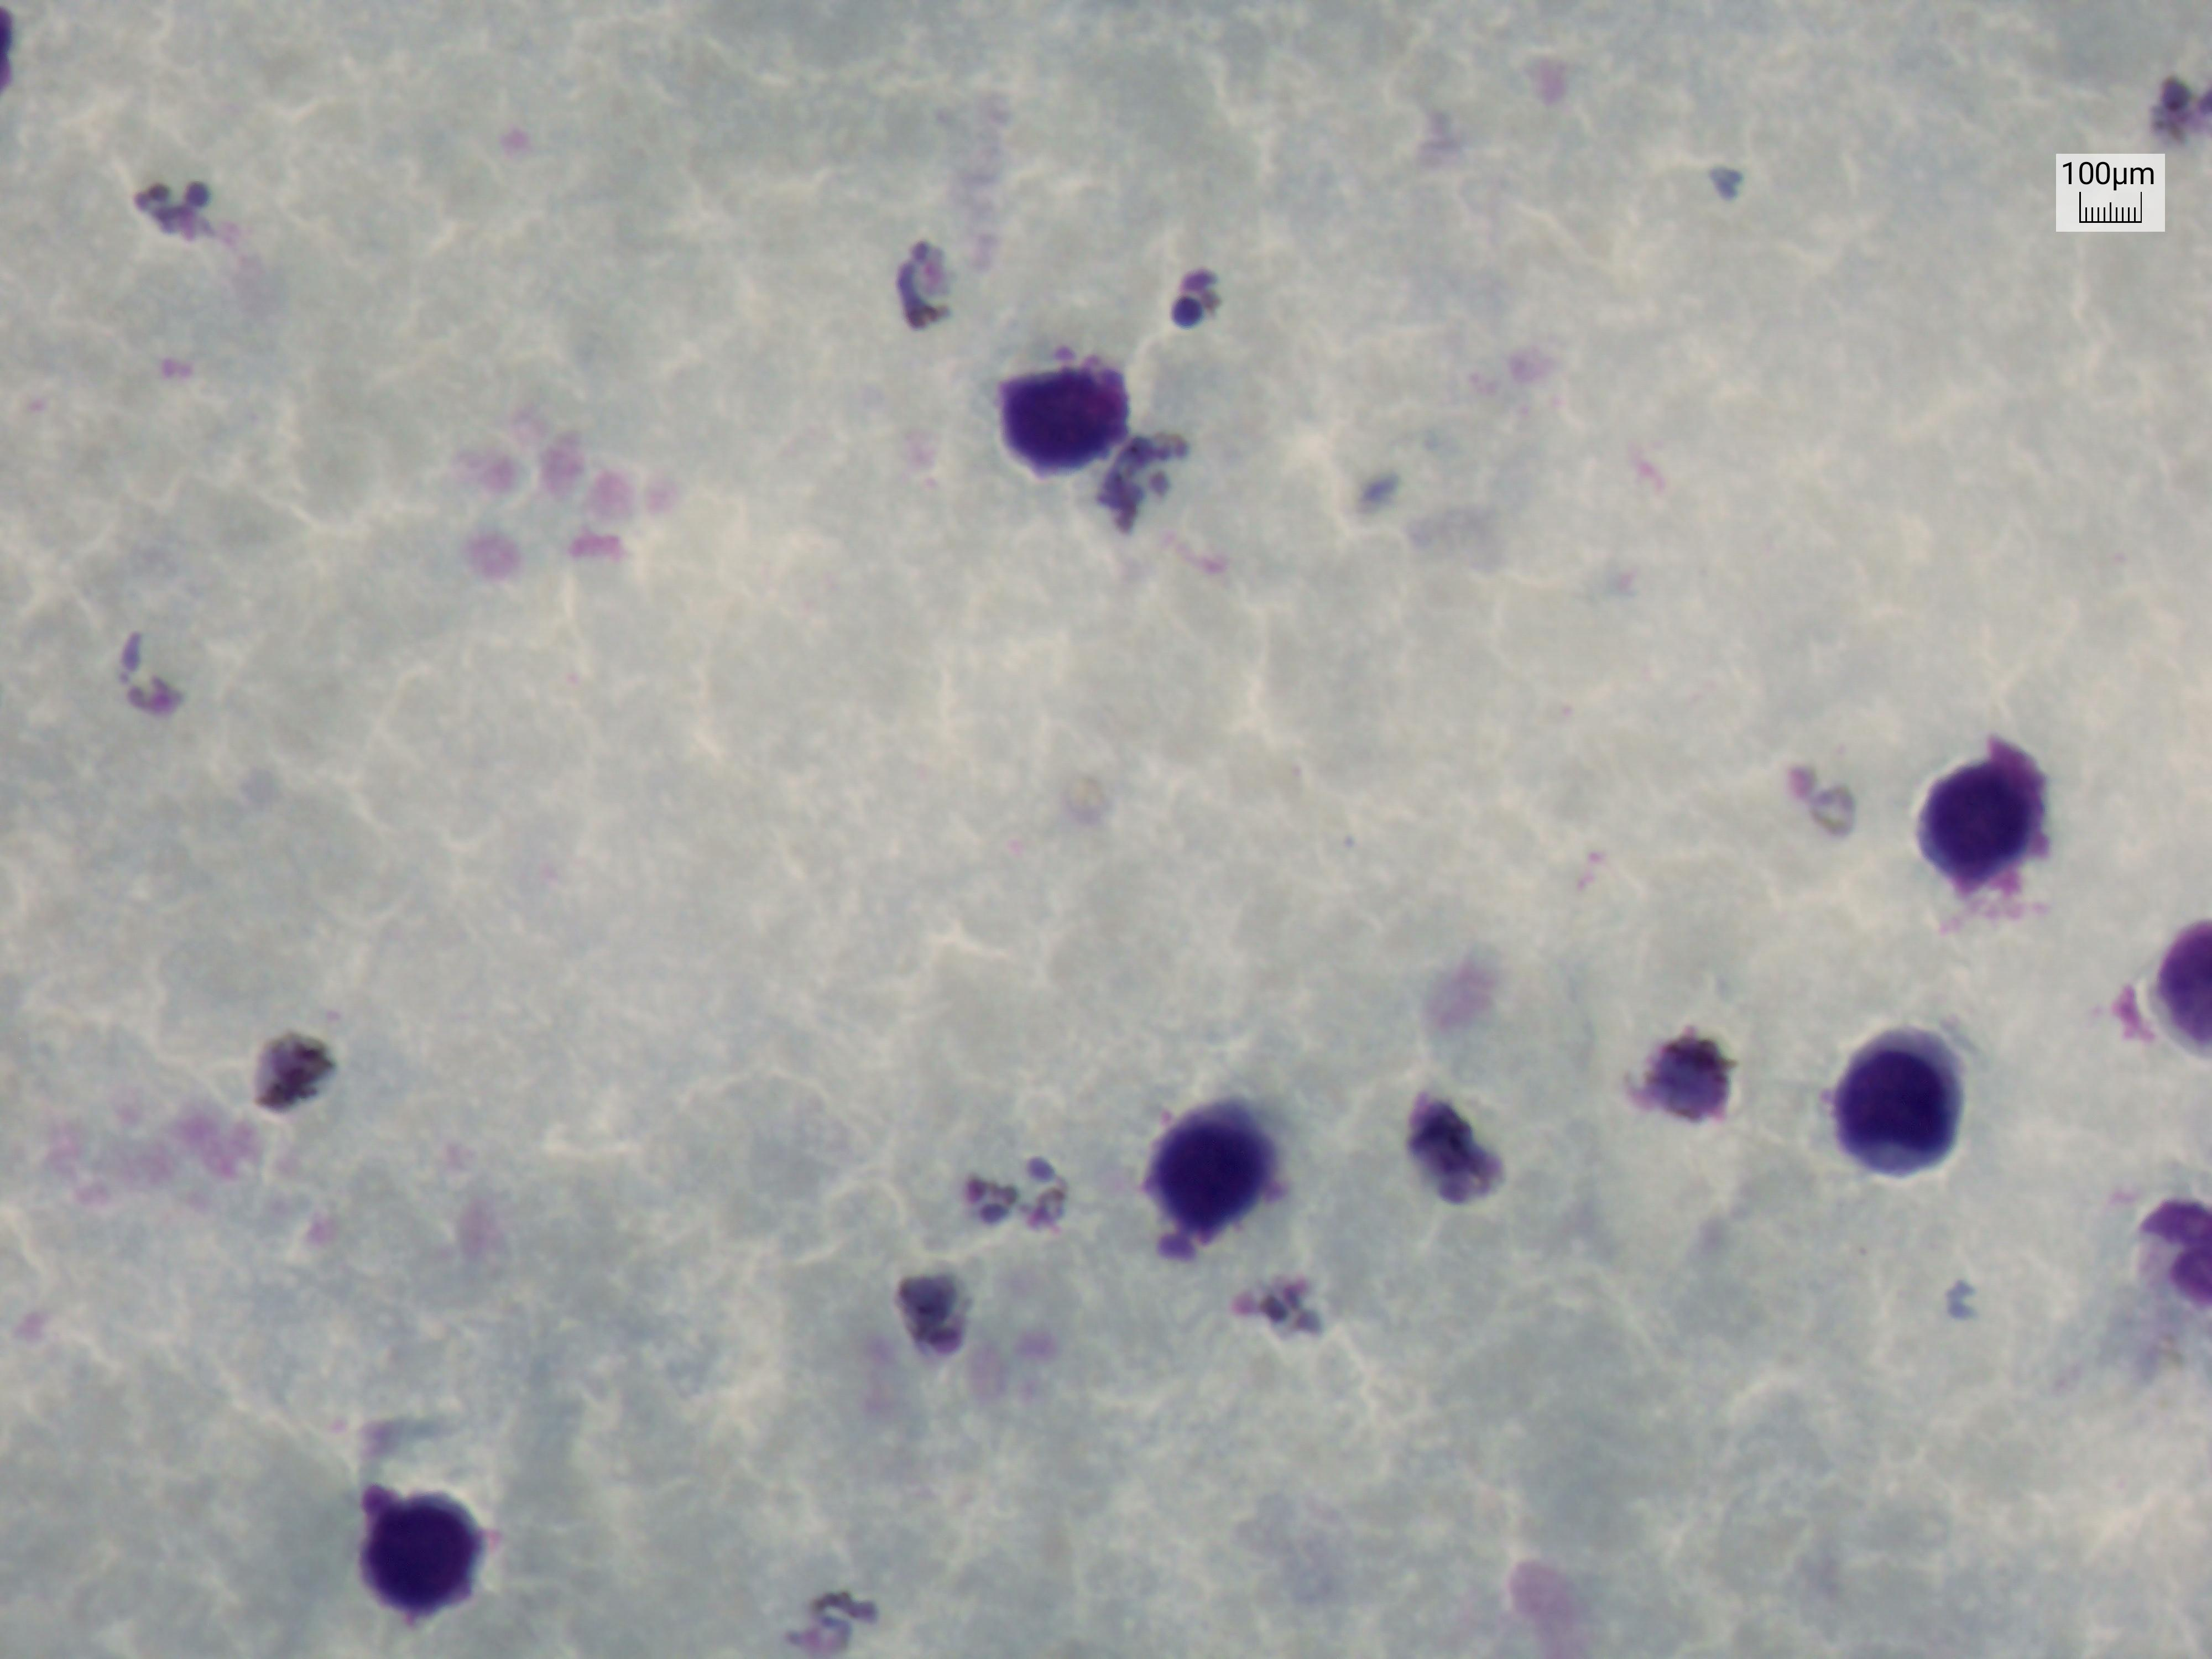p.vivax: (1393, 1060, 1522, 1216), (1634, 1009, 1759, 1141), (888, 1244, 1001, 1382), (763, 1554, 907, 1659), (1153, 244, 1287, 354), (113, 155, 237, 272), (937, 1140, 1080, 1241), (235, 1009, 350, 1134), (1228, 1244, 1343, 1358), (98, 608, 192, 739), (1766, 748, 1876, 854), (1096, 432, 1197, 544), (885, 213, 977, 333), (2135, 51, 2212, 157)
